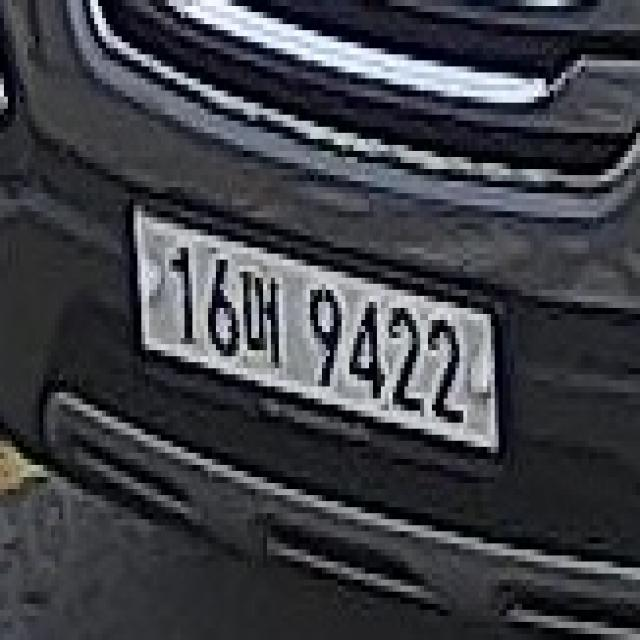1: (161, 235, 200, 362)
2: (424, 308, 467, 435), (385, 296, 424, 429)
4: (346, 290, 388, 410)
6: (204, 248, 240, 362)
9: (306, 277, 346, 398)
license_plate: (126, 193, 510, 477)
meo: (240, 266, 286, 374)
